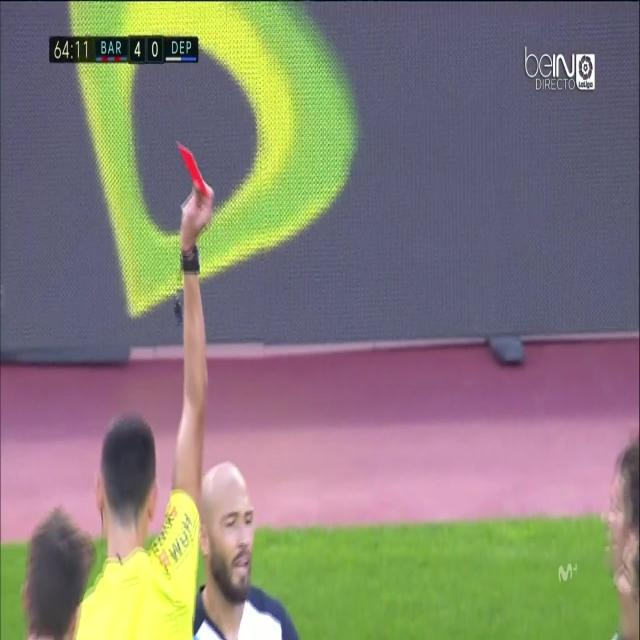Player: (194, 443, 301, 640)
Referee: (74, 171, 216, 638)
